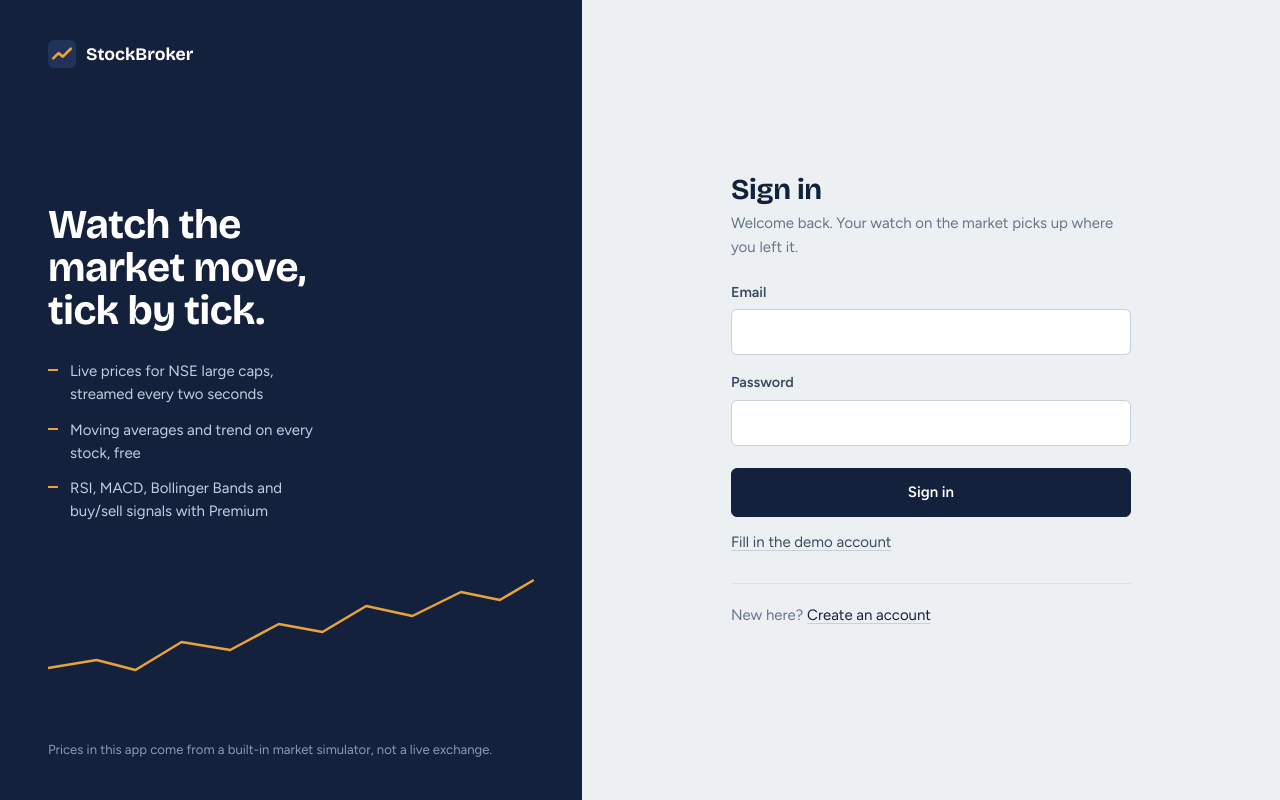
Test: Login page › shows the server error when sign-in fails
Type "jane@example.com" into the field labelled "Email" at (931, 332), box [731,309,1131,355]
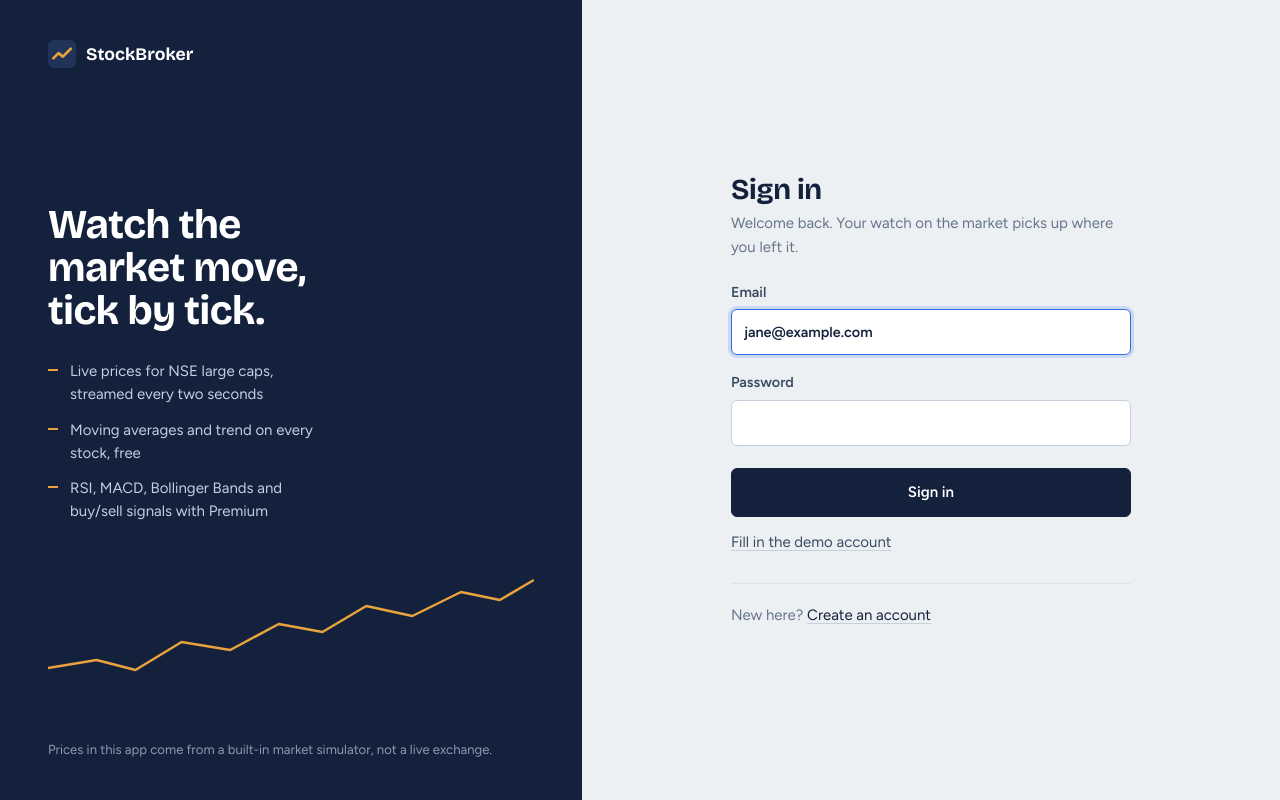
Type "wrong" into the password field labelled "Password" at (931, 423), box [731,400,1131,446]
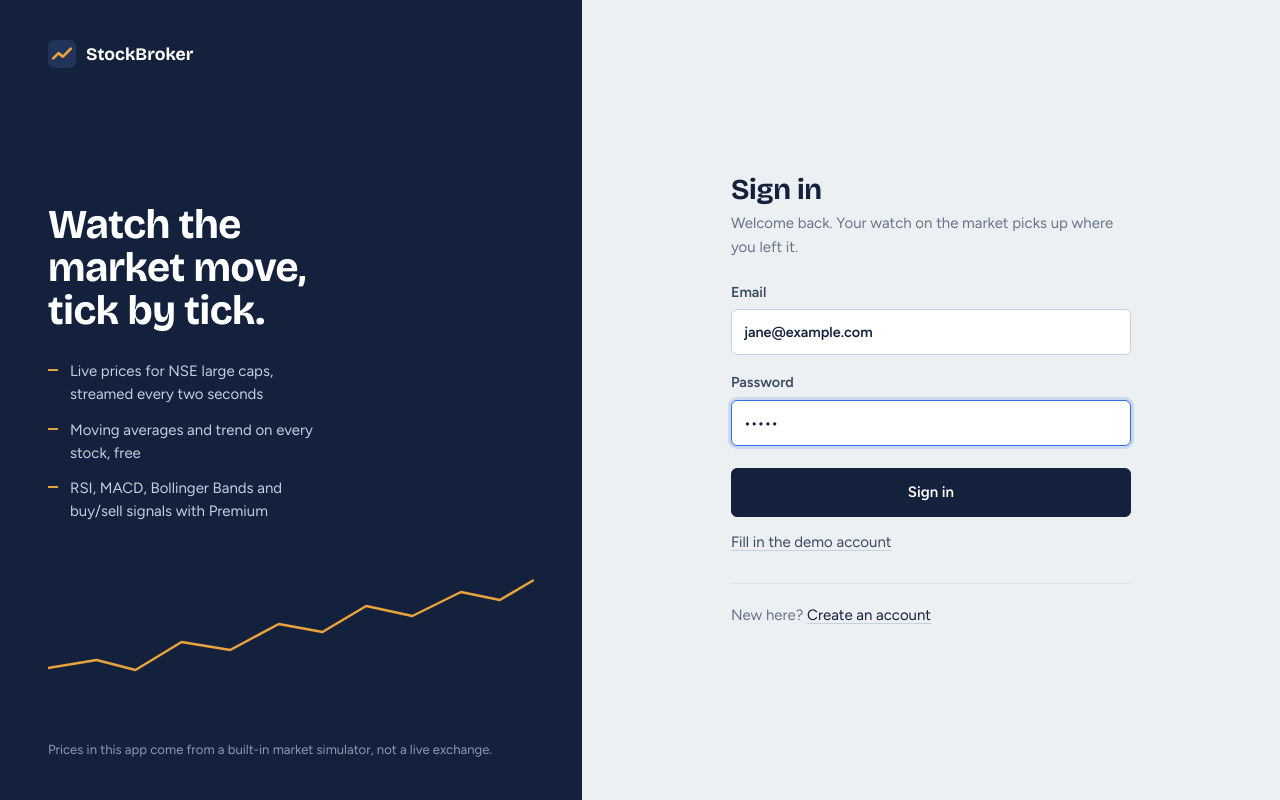
Click the button "Sign in" at (931, 493), box [731,468,1131,517]
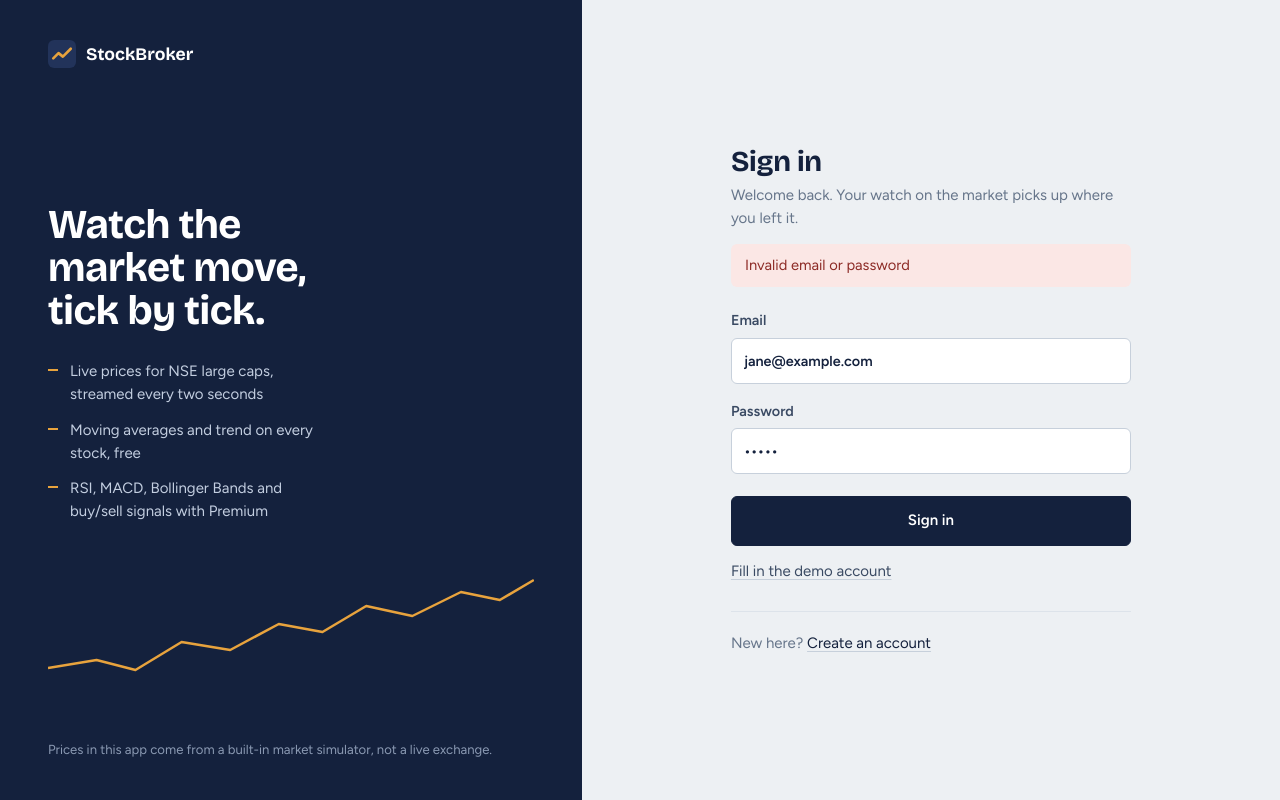
Expected: the button "Sign in" is enabled, [731,496,1131,546]
Result: the message reads "Invalid email or password" at [745,256,910,274]
